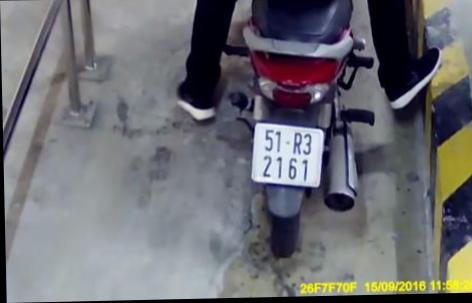LP: (248, 119, 327, 192)
